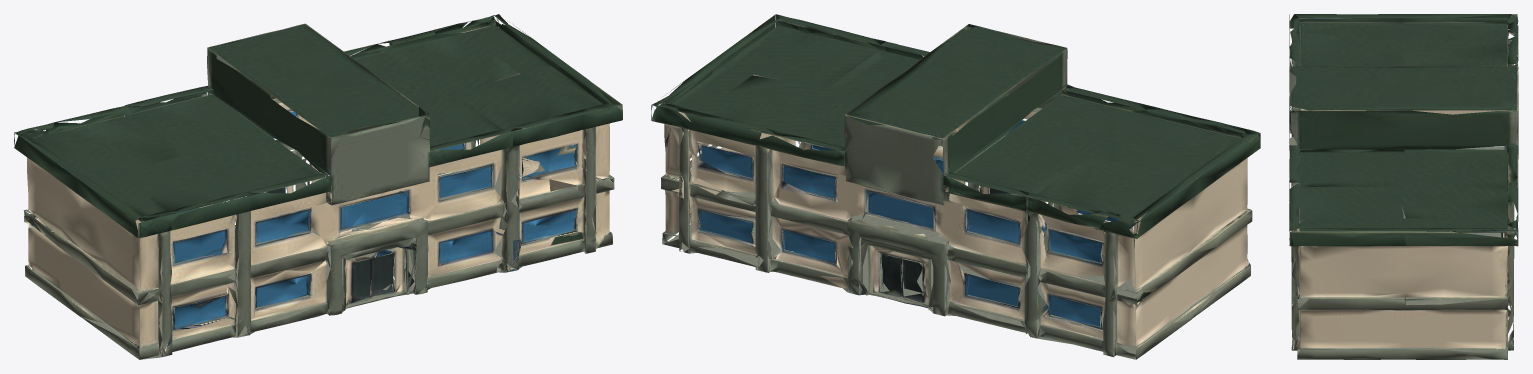
Rendered from grenade-office-low.glb.
3 views of the same model, side by side, from view 1: azimuth 30°, elevation 25°; view 2: azimuth 150°, elevation 25°; view 3: azimuth 270°, elevation 25° (orthographic). The views are drawn at different scales.
Size of the model in its own units: 0.9497 by 0.3359 by 0.4229.
1 material, 1 textured.
